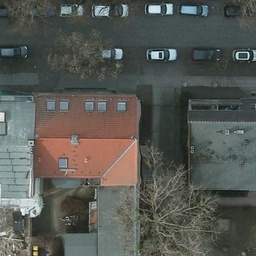car: (91, 1, 130, 20), (23, 1, 59, 17), (179, 1, 209, 17), (1, 42, 27, 60), (146, 47, 177, 62), (192, 47, 223, 62), (142, 1, 174, 15), (92, 47, 123, 61), (59, 3, 85, 19), (232, 47, 256, 62), (1, 5, 15, 18)
